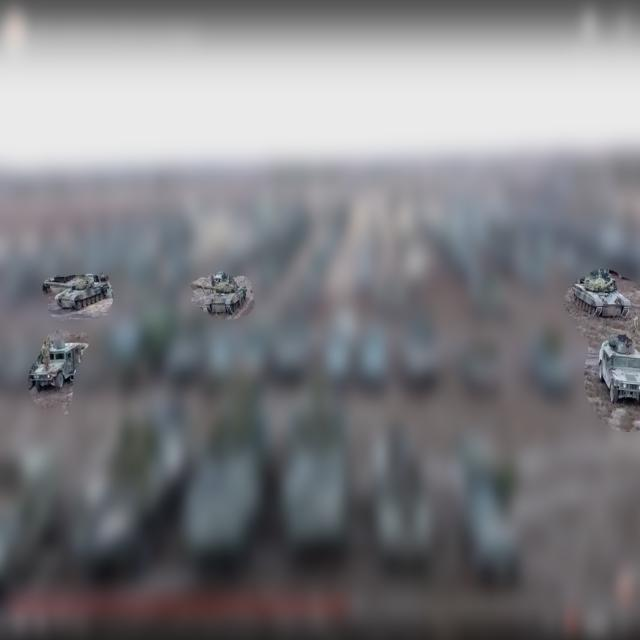tank: (41, 273, 114, 321), (570, 273, 632, 321), (190, 270, 249, 320)
